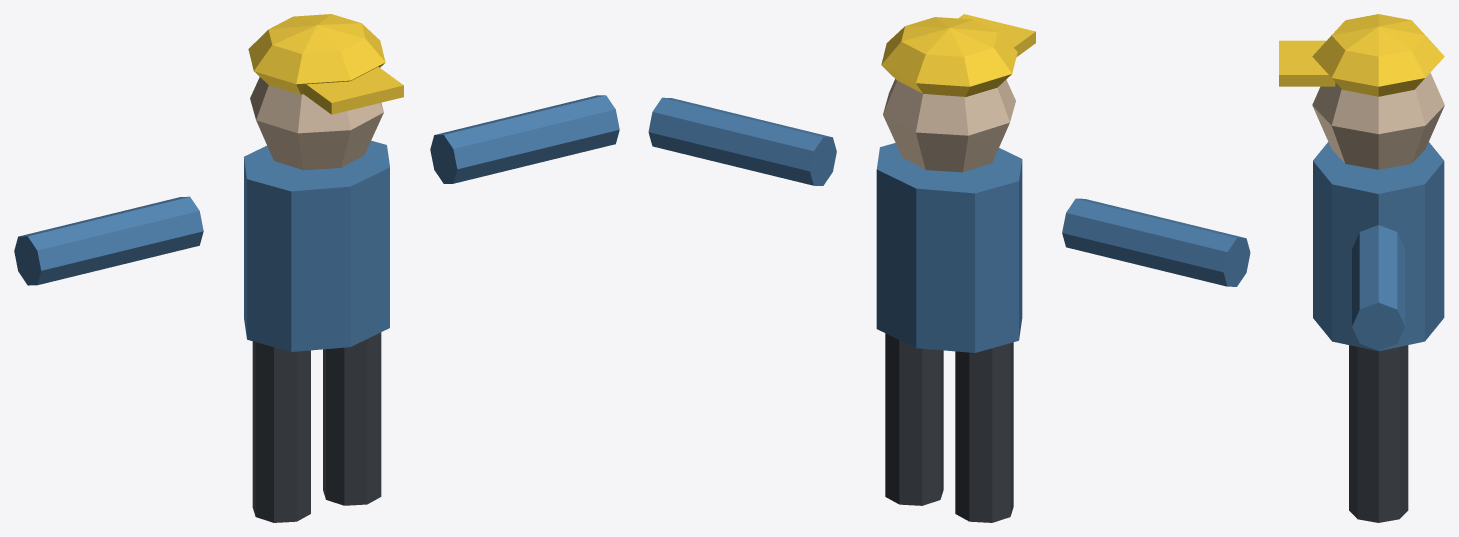
Rendered from bus_driver.glb.
3 renders of one model, left to right at view 1: azimuth 30°, elevation 25°; view 2: azimuth 150°, elevation 25°; view 3: azimuth 270°, elevation 25°, orthographic. The views are drawn at different scales.
Parts seen in each view (by area): view 1: bus_driver; view 2: bus_driver; view 3: bus_driver.
Part boxes in pixels (x1,y1,x2,y2): bus_driver: (14, 14, 619, 522); bus_driver: (648, 14, 1250, 522); bus_driver: (1279, 14, 1444, 522).
Bounding box in the file's own units: 2.16 × 1.7 × 0.547.
